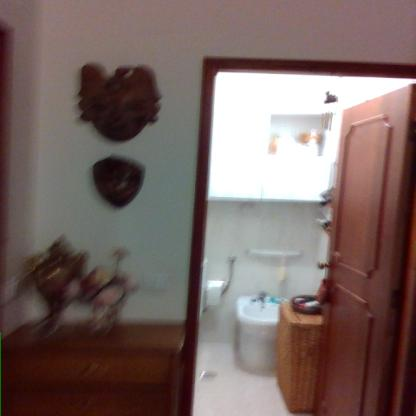open: (168, 44, 415, 416)
